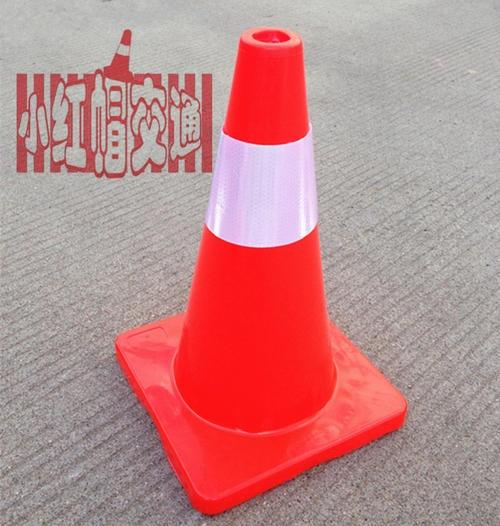cone_barrel: (126, 28, 382, 461), (100, 26, 133, 81)
